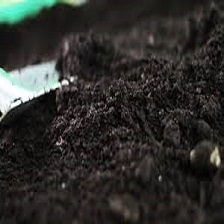loamy_soil: (15, 28, 209, 199)
